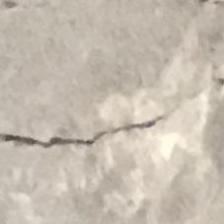Crack: (0, 102, 207, 162)
